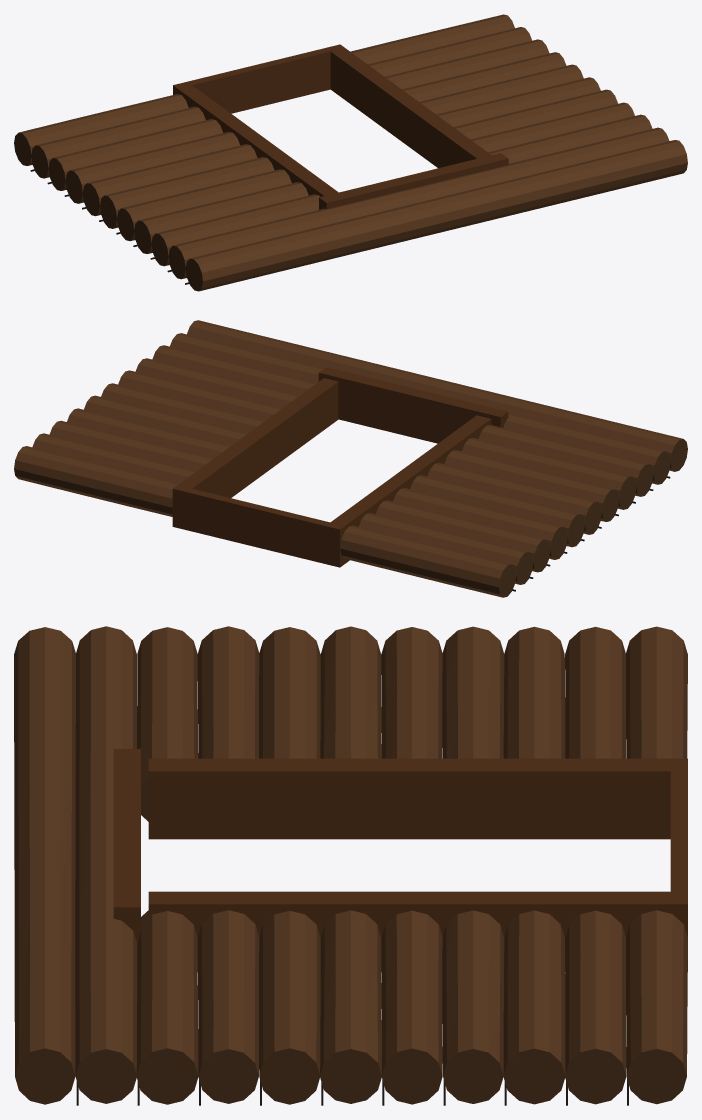
File: SM_Izba_WallDoor_1348_LOD0.obj
3 renders of one model, top to bottom at view 1: azimuth 30°, elevation 25°; view 2: azimuth 150°, elevation 25°; view 3: azimuth 270°, elevation 25°, orthographic. The views are drawn at different scales.
Visible parts, largest first — view 1: log_course_10, door_jamb, log_course_9, log_course_0, log_course_2, log_course_6, log_course_4, log_course_7, log_course_5, log_course_3, log_course_1, stone_wood_threshold (+3 smaller); view 2: log_course_0, door_jamb, log_course_10, lintel, stone_wood_threshold, log_course_2, log_course_6, log_course_4, log_course_8, log_course_5, log_course_7, log_course_3 (+3 smaller); view 3: door_jamb, sawn_end, log_course_10, log_course_9, log_course_3, log_course_0, log_course_5, log_course_6, log_course_2, log_course_7, log_course_8, log_course_4 (+3 smaller).
Part boxes in pixels (box(x1,y1,x2,y2)): log_course_10: box(190, 140, 687, 291); door_jamb: box(173, 44, 491, 196); log_course_9: box(173, 127, 669, 278); log_course_0: box(19, 14, 514, 165); log_course_2: box(53, 39, 549, 190); log_course_6: box(122, 89, 617, 241); log_course_4: box(87, 64, 583, 215); log_course_7: box(139, 102, 634, 253); log_course_5: box(105, 77, 600, 228); log_course_3: box(70, 52, 566, 203); log_course_1: box(36, 27, 531, 178); stone_wood_threshold: box(186, 46, 336, 113); log_course_0: box(14, 446, 511, 597); door_jamb: box(172, 378, 491, 567); log_course_10: box(187, 320, 682, 471); lintel: box(318, 367, 508, 443); stone_wood_threshold: box(180, 487, 337, 565); log_course_2: box(49, 420, 545, 572); log_course_6: box(118, 370, 614, 521); log_course_4: box(84, 395, 580, 546); log_course_8: box(152, 345, 648, 496); log_course_5: box(101, 383, 596, 534); log_course_7: box(135, 358, 631, 509); log_course_3: box(67, 408, 562, 559); door_jamb: box(148, 758, 687, 971); sawn_end: box(15, 779, 686, 1104); log_course_10: box(14, 627, 75, 1075); log_course_9: box(75, 626, 137, 1075); log_course_3: box(442, 626, 504, 1075); log_course_0: box(626, 626, 687, 1075); log_course_5: box(320, 626, 381, 1075); log_course_6: box(259, 627, 320, 1075); log_course_2: box(503, 626, 565, 1074); log_course_7: box(197, 626, 259, 1075); log_course_8: box(136, 627, 198, 1074); log_course_4: box(381, 627, 442, 1075).
Bounding box in the file's own units: 4 × 0.33 × 2.7.
